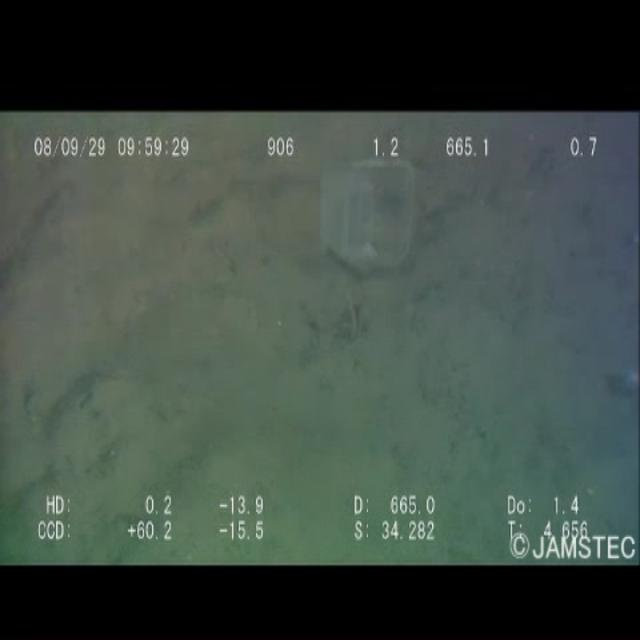Cutlery: (313, 148, 421, 298)
